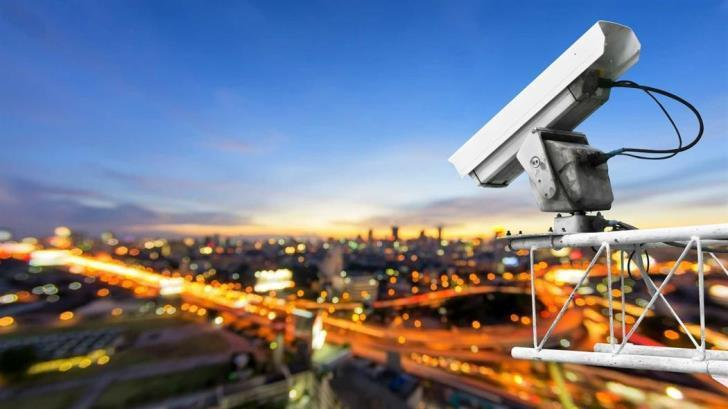Monitor: (447, 18, 641, 189)
